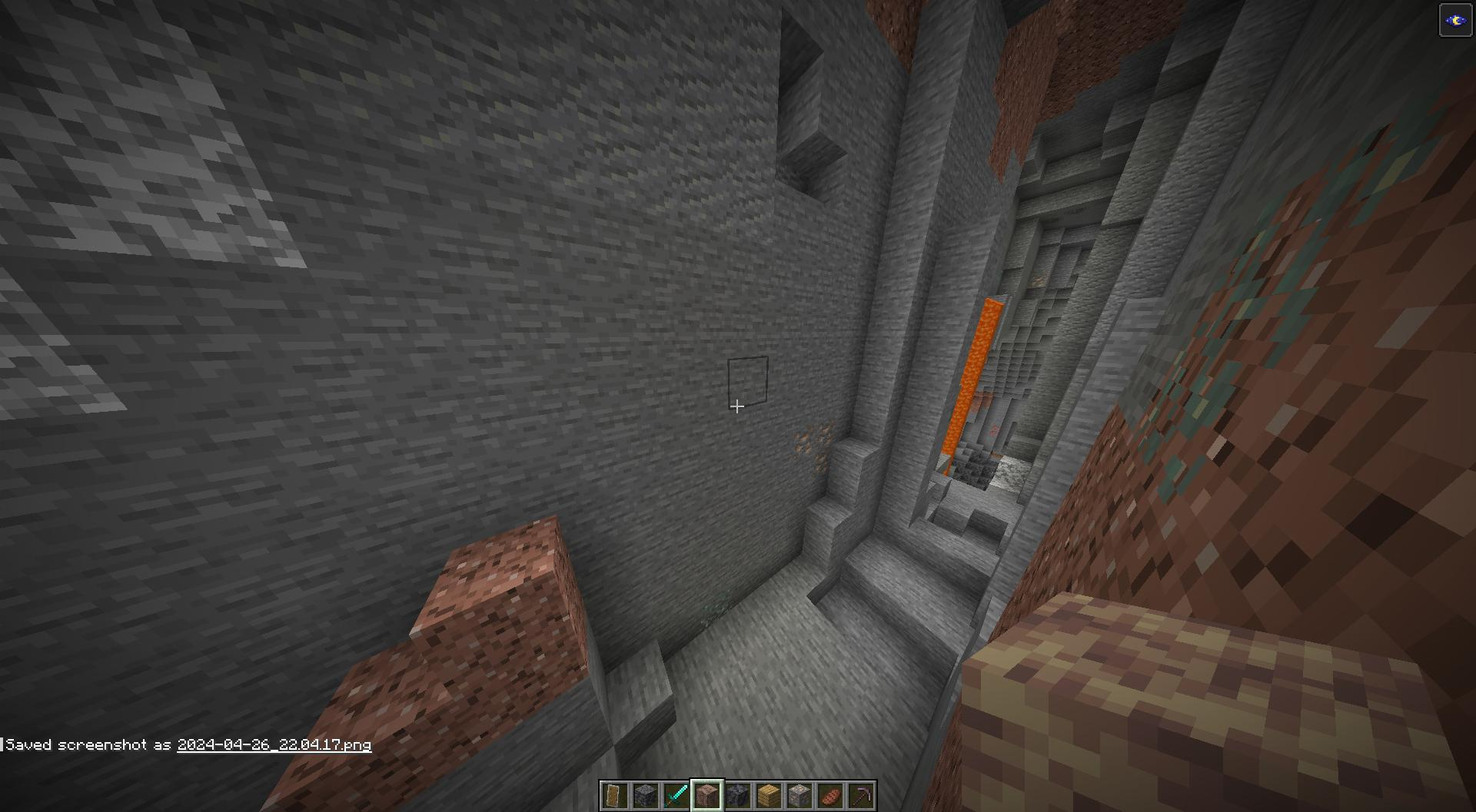iron ore: (791, 414, 832, 470)
